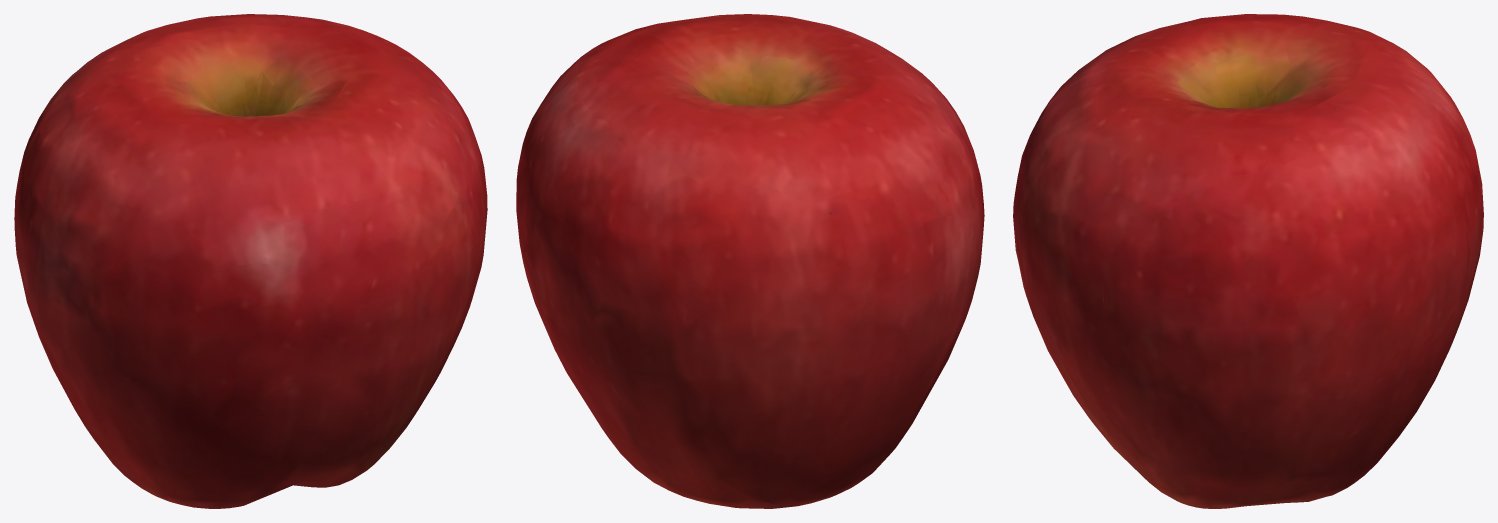
Rendered from apple.glb.
3 renders of one model, left to right at view 1: azimuth 30°, elevation 25°; view 2: azimuth 150°, elevation 25°; view 3: azimuth 270°, elevation 25°, orthographic.
Visible parts, largest first — view 1: geometry_0; view 2: geometry_0; view 3: geometry_0.
Boxes of the visible parts, left/top/right/bottom form: geometry_0: left=14, top=14, right=487, bottom=508; geometry_0: left=516, top=14, right=984, bottom=508; geometry_0: left=1013, top=14, right=1483, bottom=508.
Size of the model in its own units: 0.1199 by 0.1119 by 0.1171.
1 material, 1 textured.
